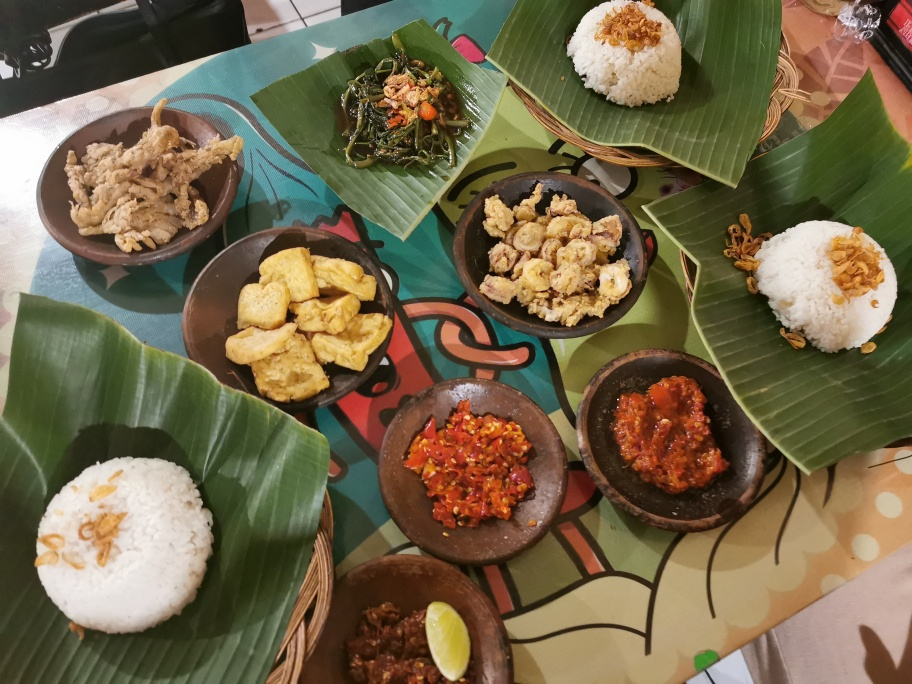nasi putih: (37, 450, 215, 636), (747, 215, 900, 353), (569, 1, 683, 105)
